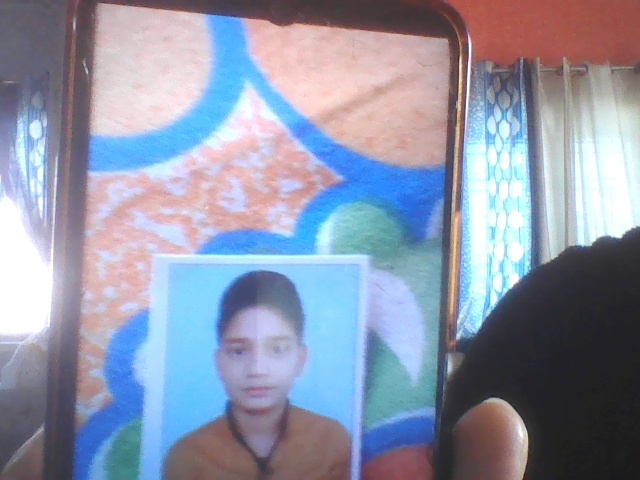fake: (207, 261, 327, 431)
